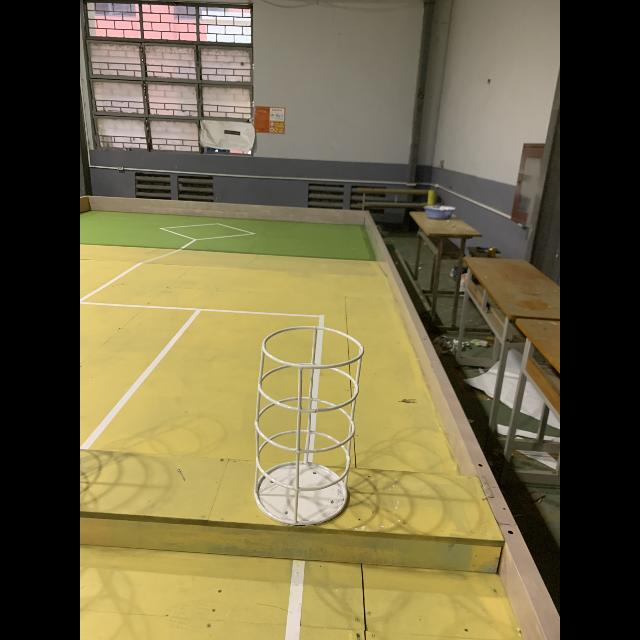S: (251, 325, 365, 527)
